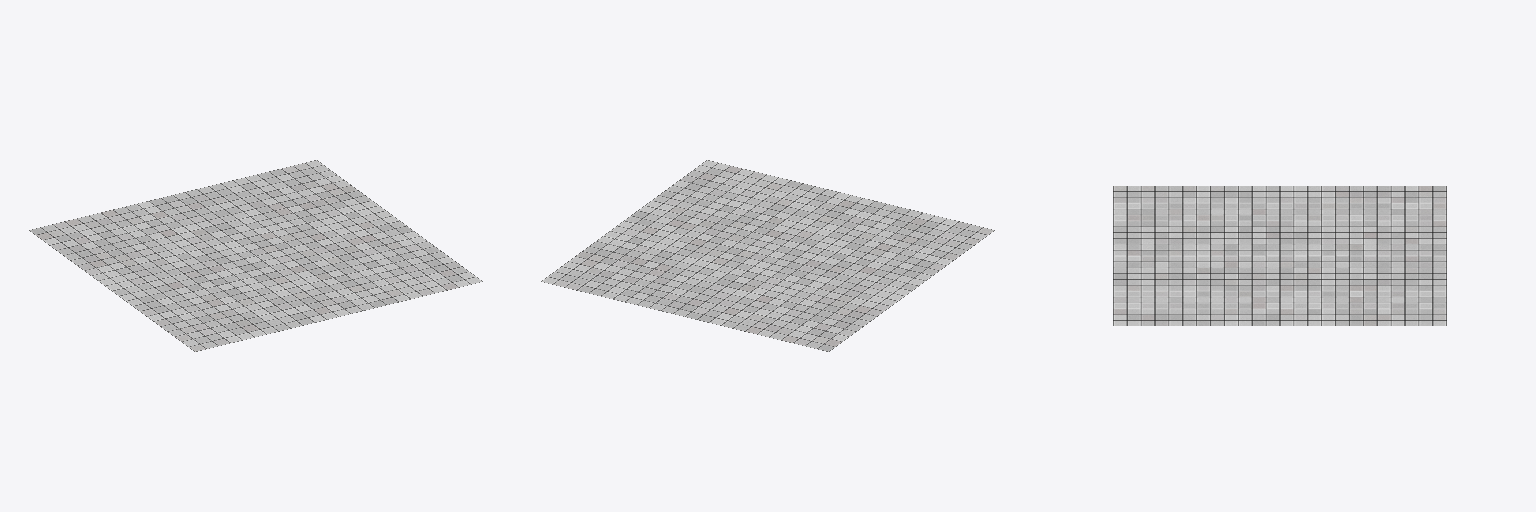
3 renders of one model, left to right at view 1: azimuth 30°, elevation 25°; view 2: azimuth 150°, elevation 25°; view 3: azimuth 270°, elevation 25°, orthographic.
Visible parts, largest first — view 1: Plane__5; view 2: Plane__5; view 3: Plane__5.
Boxes of the visible parts, box(x1,y1,x2,y2) form: Plane__5: box(29, 160, 482, 351); Plane__5: box(541, 160, 994, 351); Plane__5: box(1113, 186, 1446, 325).
Bounding box in the file's own units: 100 × 0 × 100.
1 materials, 1 textured.